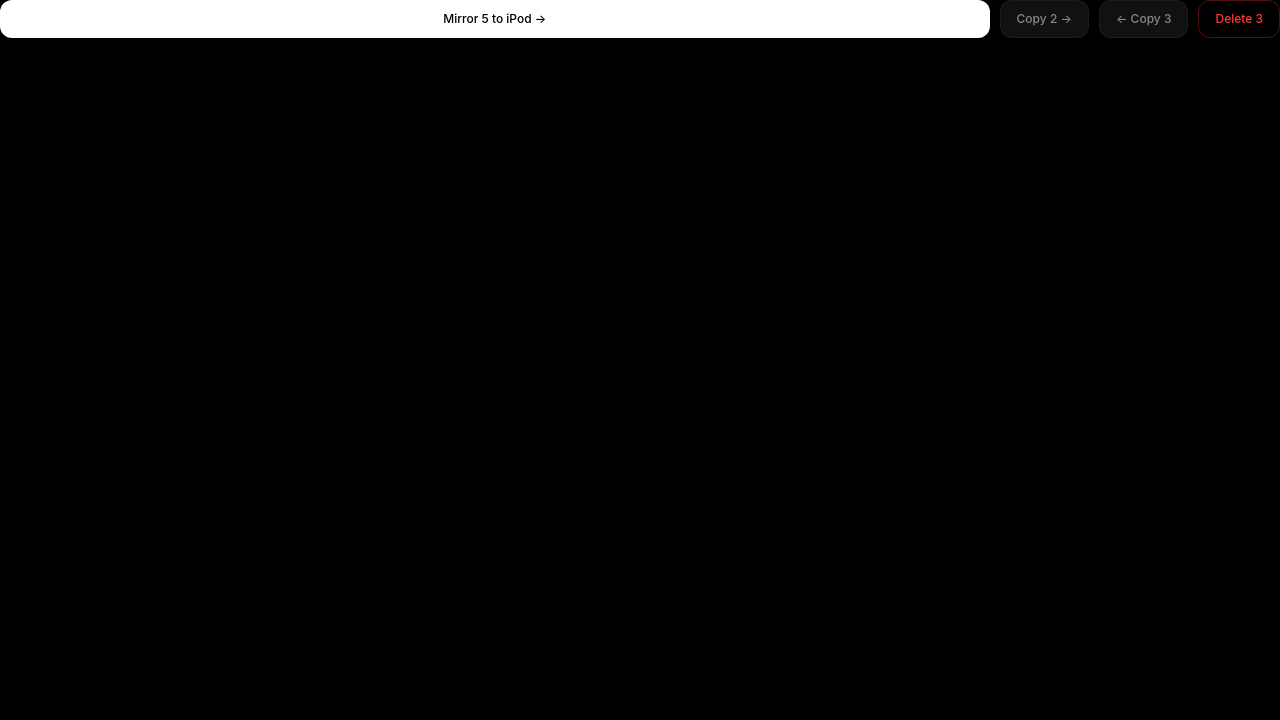
Scenario: SyncActions › shows confirmation dialog when Delete is clicked
The width and height of the screenshot is (1280, 720).
Click the button "Delete 3": click(1239, 19) top-left (1198, 0), bottom-right (1279, 38)
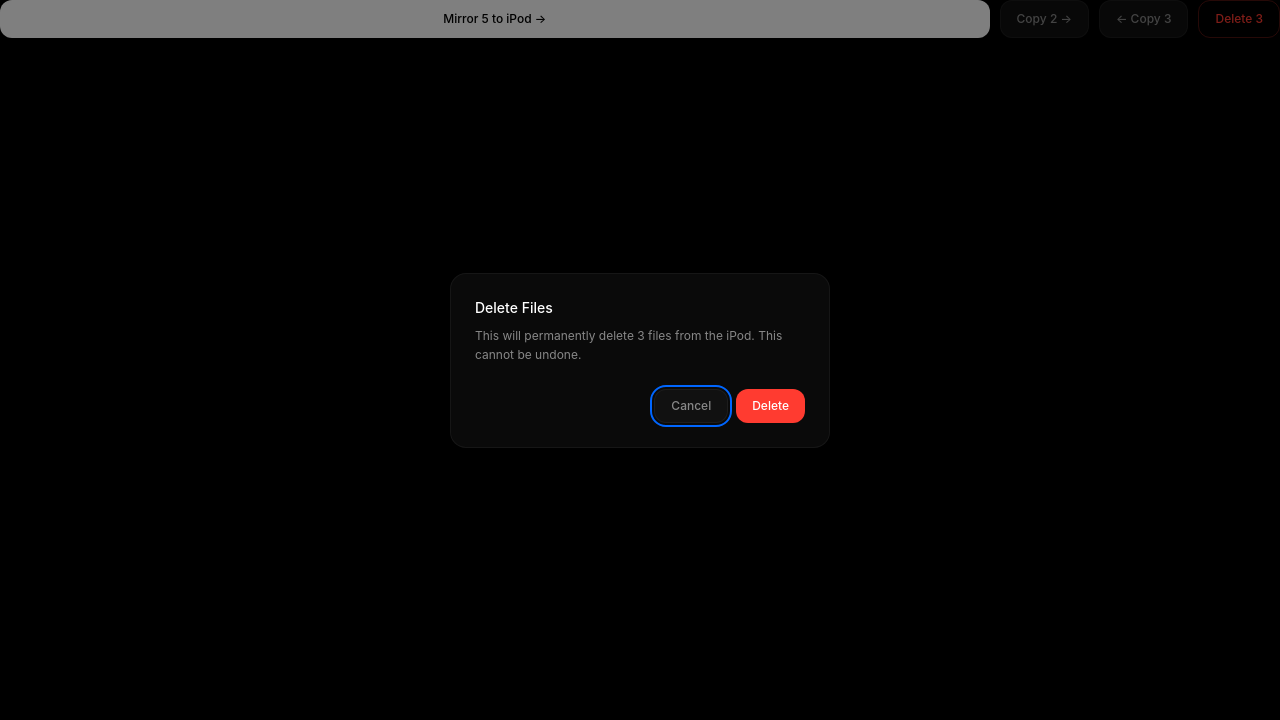
Now the text "Delete Files" is shown, box top-left (475, 298), bottom-right (553, 316)
Now the text "permanently delete 3 files" is shown, box top-left (475, 328), bottom-right (782, 362)
